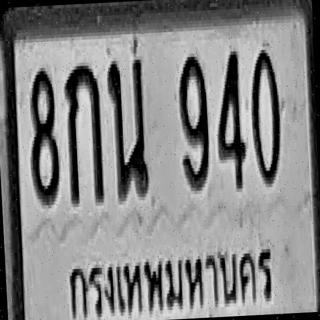A01: (64, 62, 105, 204)
A25: (106, 56, 149, 198)
N00: (248, 46, 283, 184)
N04: (214, 48, 248, 190)
N08: (26, 66, 60, 204)
N09: (178, 53, 211, 188)
P04: (61, 232, 276, 320)
